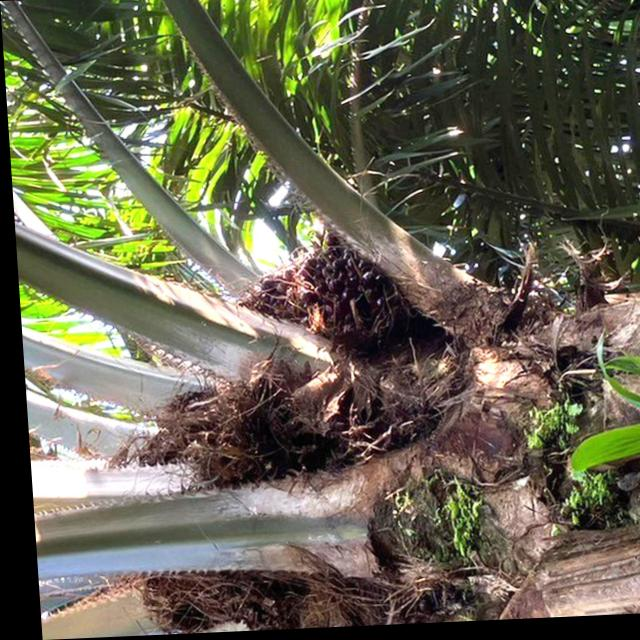ripe: (246, 248, 428, 351)
